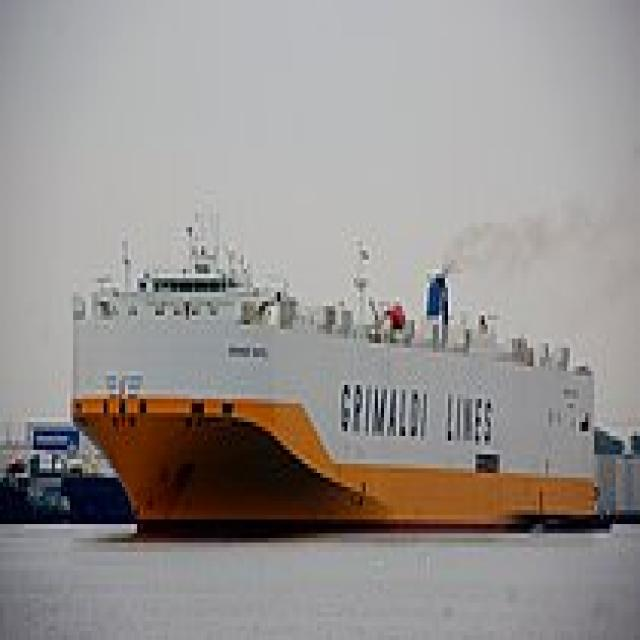Carrier: (64, 186, 597, 534)
